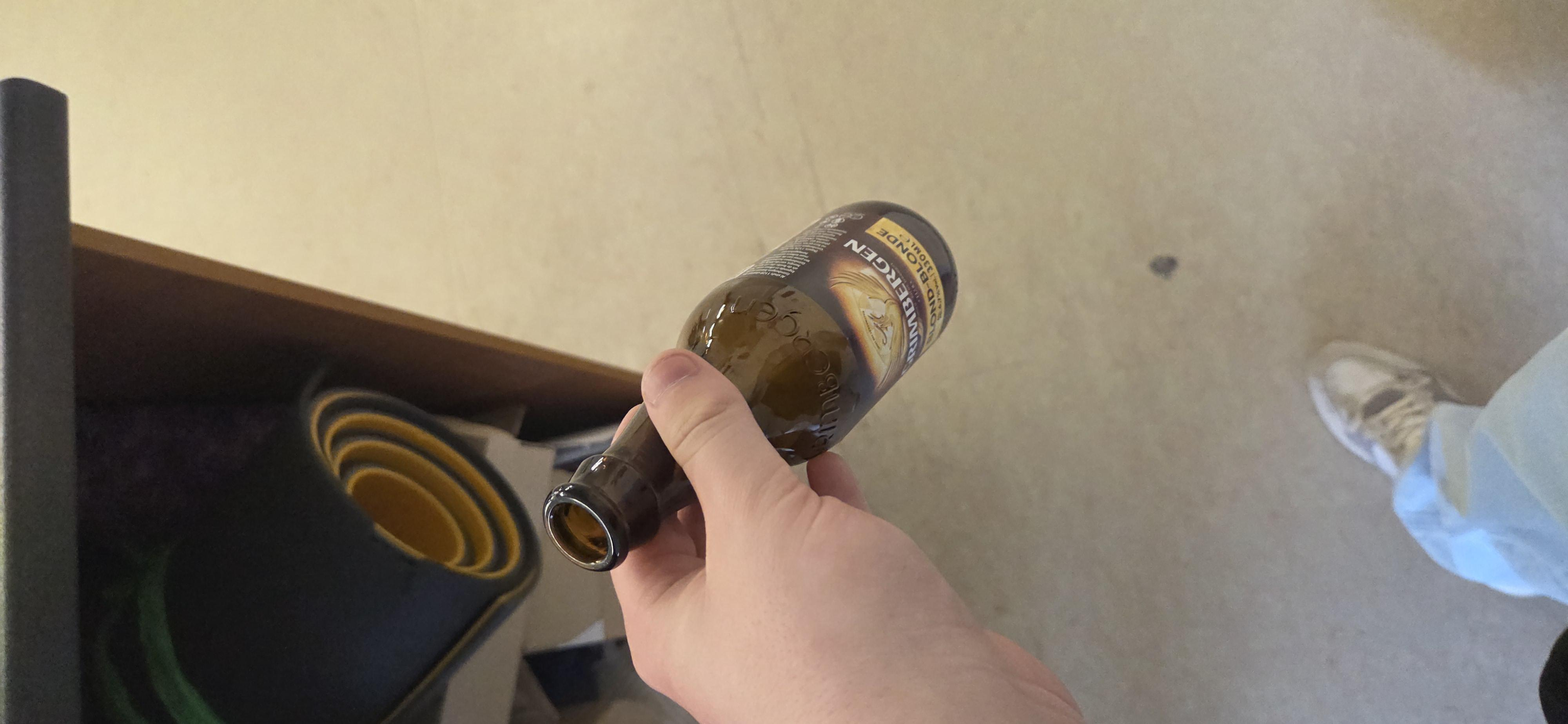Glass: (356, 248, 1139, 443)
